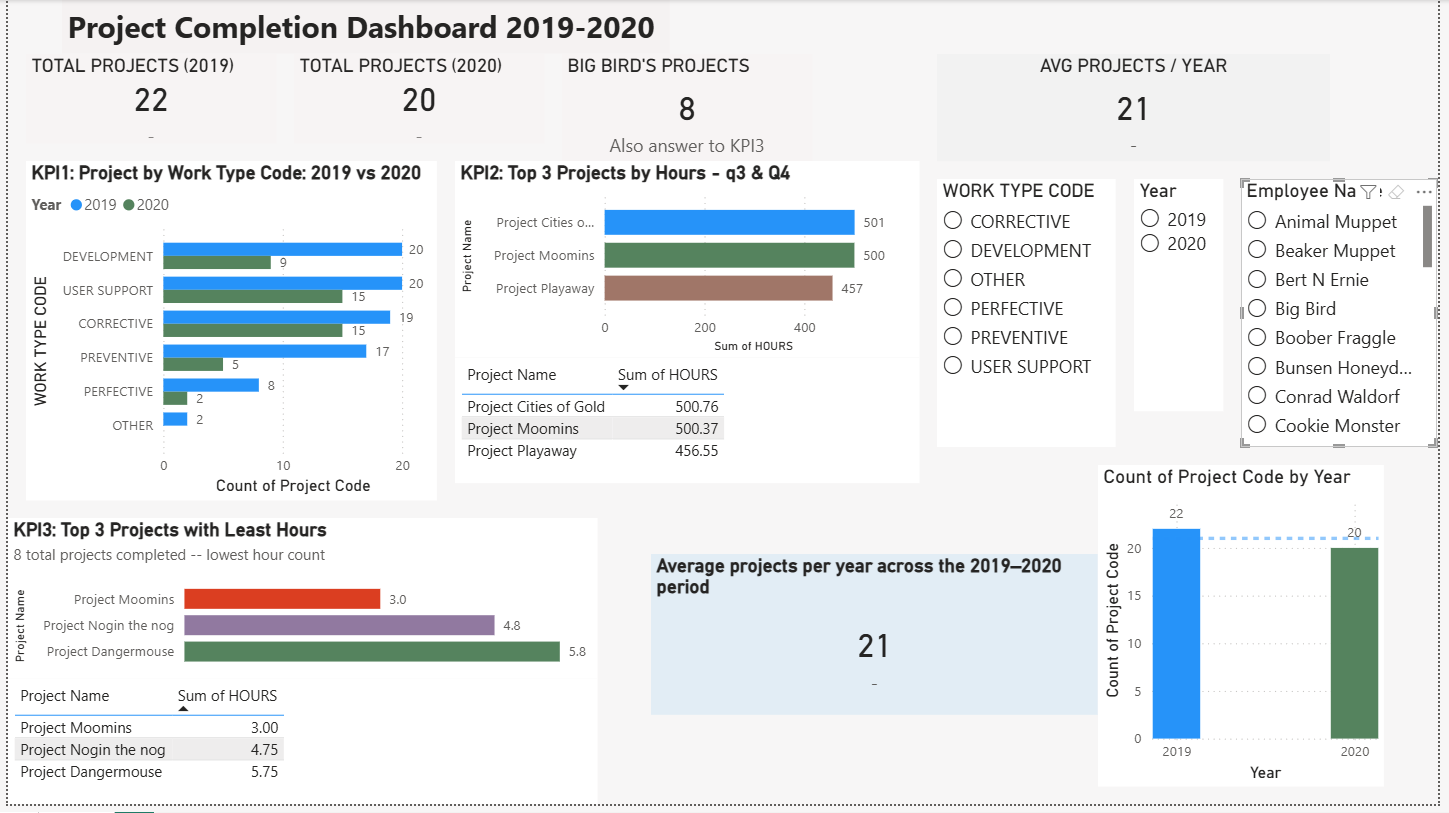

This screenshot's page, from the dashboard's own definition file:
{"tool":"powerbi","page":{"name":"Page 1","canvas":[1280,720],"ordinal":0},"visuals":[{"type":"clusteredBarChart","title":"KPI1: Project by Work Type Code: 2019 vs 2020","fields":{"Category":["Raw Data.WORK TYPE CODE"],"Y":["Count(Raw Data.Project Code)"],"Series":["Raw Data.Year"]},"box":[16,144,368,304],"z":0},{"type":"listSlicer","fields":{"Values":["Raw Data.Year"]},"box":[1008,160,80,208],"z":1000},{"type":"clusteredBarChart","title":"KPI2: Top 3 Projects by Hours - q3 & Q4","fields":{"Category":["Raw Data.Project Name"],"Y":["Sum(Raw Data.HOURS)"]},"box":[400,144,416,176],"z":2000,"group":"g1"},{"type":"clusteredBarChart","title":"KPI3: Top 3 Projects with Least Hours","fields":{"Category":["Raw Data.Project Name"],"Y":["Sum(Raw Data.HOURS)"]},"box":[0,464,528,144],"z":2000},{"type":"clusteredColumnChart","fields":{"Category":["Raw Data.Year"],"Y":["Count(Raw Data.Project Code)"]},"box":[976,416,256,288],"z":3000},{"type":"card","title":" Average projects per year across the 2019–2020 period","fields":{"Values":["Raw Data.Avg"]},"box":[576,496,400,144],"z":4000},{"type":"textbox","box":[48,0,544,48],"z":5000},{"type":"listSlicer","fields":{"Values":["Raw Data.Employee Name"]},"box":[1104,160,176,240],"z":6000},{"type":"listSlicer","fields":{"Values":["Raw Data.WORK TYPE CODE"]},"box":[832,160,160,240],"z":7000},{"type":"card","title":"TOTAL PROJECTS (2019)","fields":{"Values":["Count(Raw Data.Project Code)"]},"box":[16,48,224,80],"z":8000},{"type":"card","title":"TOTAL PROJECTS (2020)","fields":{"Values":["Count(Raw Data.Project Code)"]},"box":[256,48,224,80],"z":9000},{"type":"card","title":"BIG BIRD''S PROJECTS","fields":{"Values":["Count(Raw Data.Project Code)"]},"box":[496,48,224,96],"z":10000},{"type":"group","id":"g1","title":"Group 1","box":[400,144,416,288],"z":11000},{"type":"card","title":"AVG PROJECTS / YEAR","fields":{"Values":["Raw Data.Avg Projects"]},"box":[832,48,352,96],"z":12000},{"type":"tableEx","title":"Top 3 Projects by Hours - q3 & Q4","fields":{"Values":["Raw Data.Project Name","Sum(Raw Data.HOURS)"]},"box":[400,320,416,112],"z":12001,"group":"g1"},{"type":"tableEx","title":"KPI3: Top 3 Projects with Least Hours","fields":{"Values":["Raw Data.Project Name","Sum(Raw Data.HOURS)"]},"box":[0,608,528,112],"z":13000}]}

Visuals, with their boxes in screenshot pixels (x1, y1, x2, y2), scaled from the page's 1280x720 canvas onto the 1449x813 screenshot:
"KPI1: Project by Work Type Code: 2019 vs 2020" clusteredBarChart: <bbox>18, 163, 435, 506</bbox>
listSlicer - Raw Data.Year: <bbox>1141, 181, 1232, 416</bbox>
"KPI2: Top 3 Projects by Hours - q3 & Q4" clusteredBarChart: <bbox>453, 163, 924, 361</bbox>
"KPI3: Top 3 Projects with Least Hours" clusteredBarChart: <bbox>0, 524, 598, 687</bbox>
clusteredColumnChart - Raw Data.Year x Count(Raw Data.Project Code): <bbox>1105, 470, 1395, 795</bbox>
" Average projects per year across the 2019–2020 period" card: <bbox>652, 560, 1105, 723</bbox>
textbox: <bbox>54, 0, 670, 54</bbox>
listSlicer - Raw Data.Employee Name: <bbox>1250, 181, 1448, 452</bbox>
listSlicer - Raw Data.WORK TYPE CODE: <bbox>942, 181, 1123, 452</bbox>
"TOTAL PROJECTS (2019)" card: <bbox>18, 54, 272, 145</bbox>
"TOTAL PROJECTS (2020)" card: <bbox>290, 54, 543, 145</bbox>
"BIG BIRD''S PROJECTS" card: <bbox>561, 54, 815, 163</bbox>
"Group 1" group: <bbox>453, 163, 924, 488</bbox>
"AVG PROJECTS / YEAR" card: <bbox>942, 54, 1340, 163</bbox>
"Top 3 Projects by Hours - q3 & Q4" tableEx: <bbox>453, 361, 924, 488</bbox>
"KPI3: Top 3 Projects with Least Hours" tableEx: <bbox>0, 687, 598, 812</bbox>
